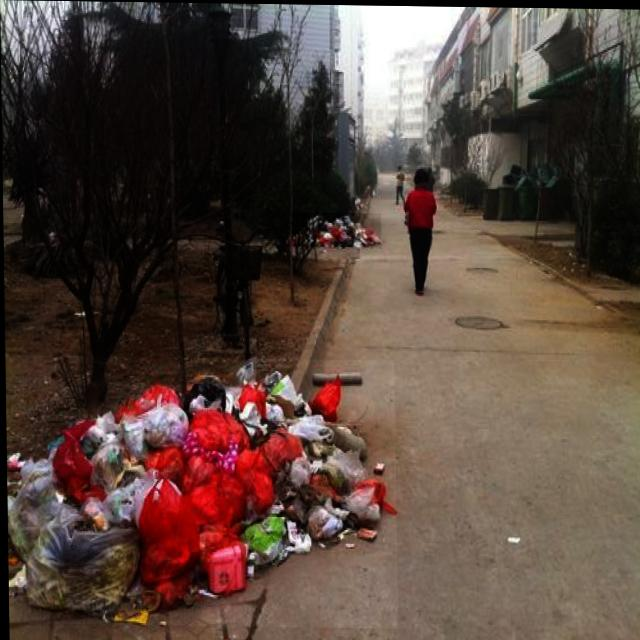garbage: (4, 355, 396, 627), (291, 211, 381, 247)
